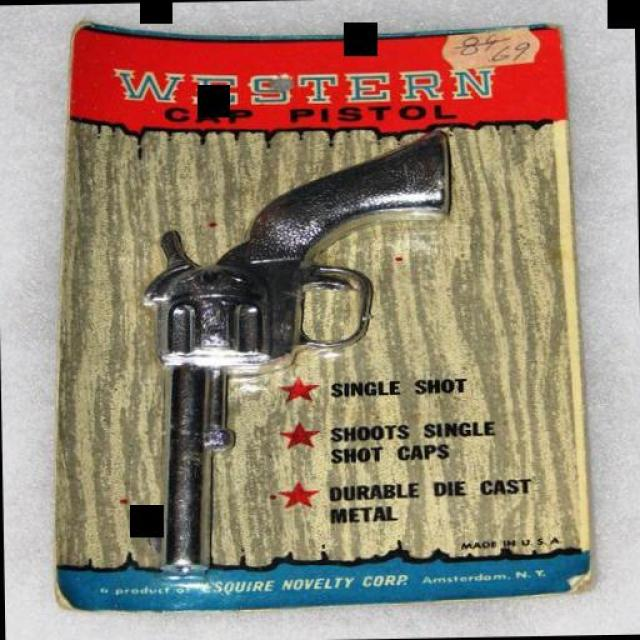gun: (104, 118, 471, 582)
